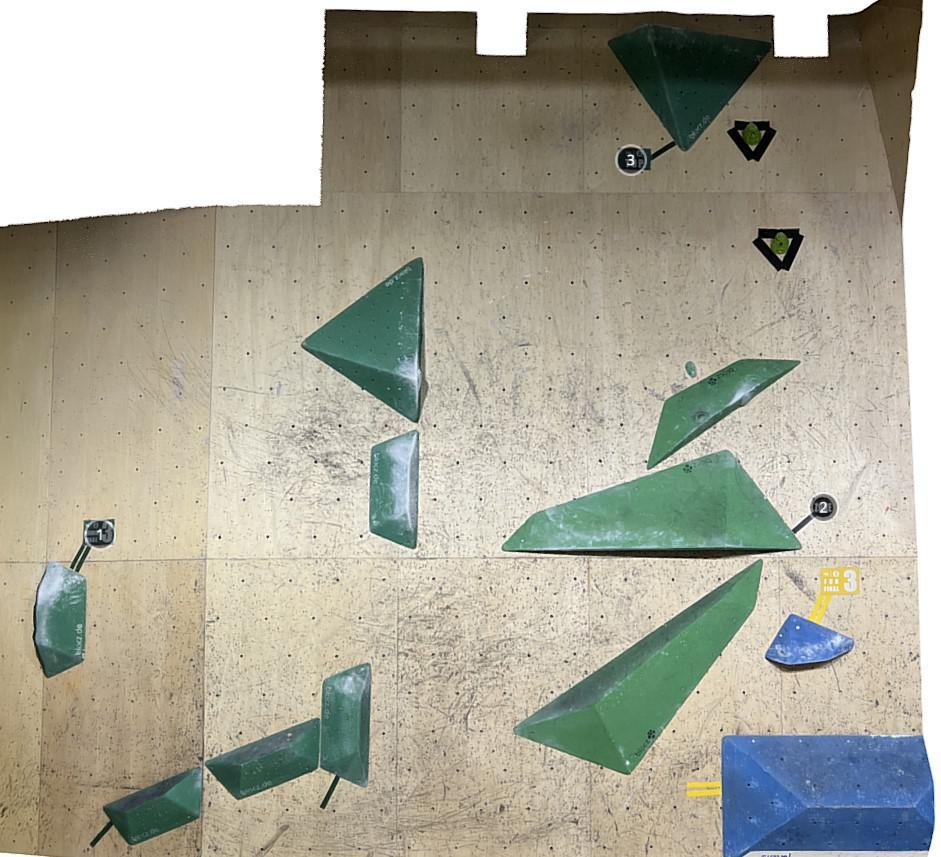hold: (513, 559, 762, 775), (501, 449, 803, 552), (721, 735, 935, 857), (607, 23, 772, 152), (647, 359, 801, 470), (206, 717, 320, 800), (103, 767, 201, 846), (320, 663, 371, 787), (35, 562, 86, 679), (369, 430, 419, 549), (764, 614, 854, 666), (752, 228, 805, 272), (726, 120, 777, 163), (416, 367, 424, 394), (685, 361, 697, 378)
volume: (301, 256, 423, 424)
